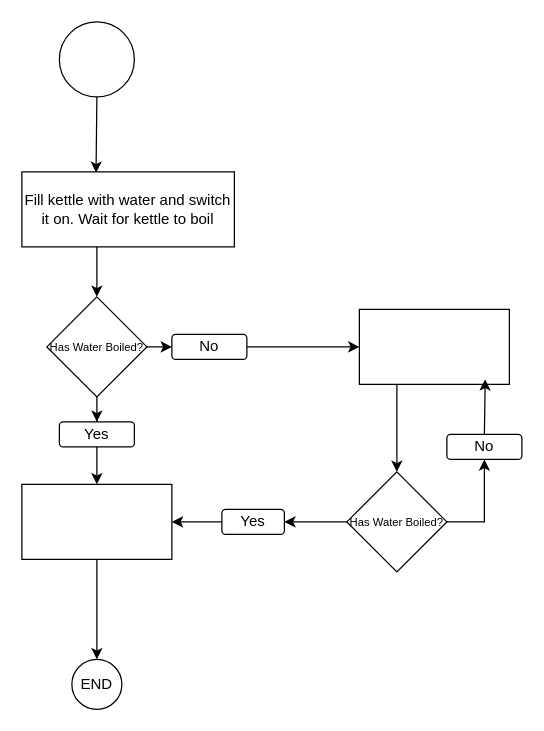
Some shapes in this 544 by 731 pixel diagram are drawn without their labels. Each missing label, with the box of its shape:
Pour water into the mug: (21, 483, 172, 559)
START: (58, 21, 134, 97)
Wait for water to boil: (358, 308, 509, 384)
